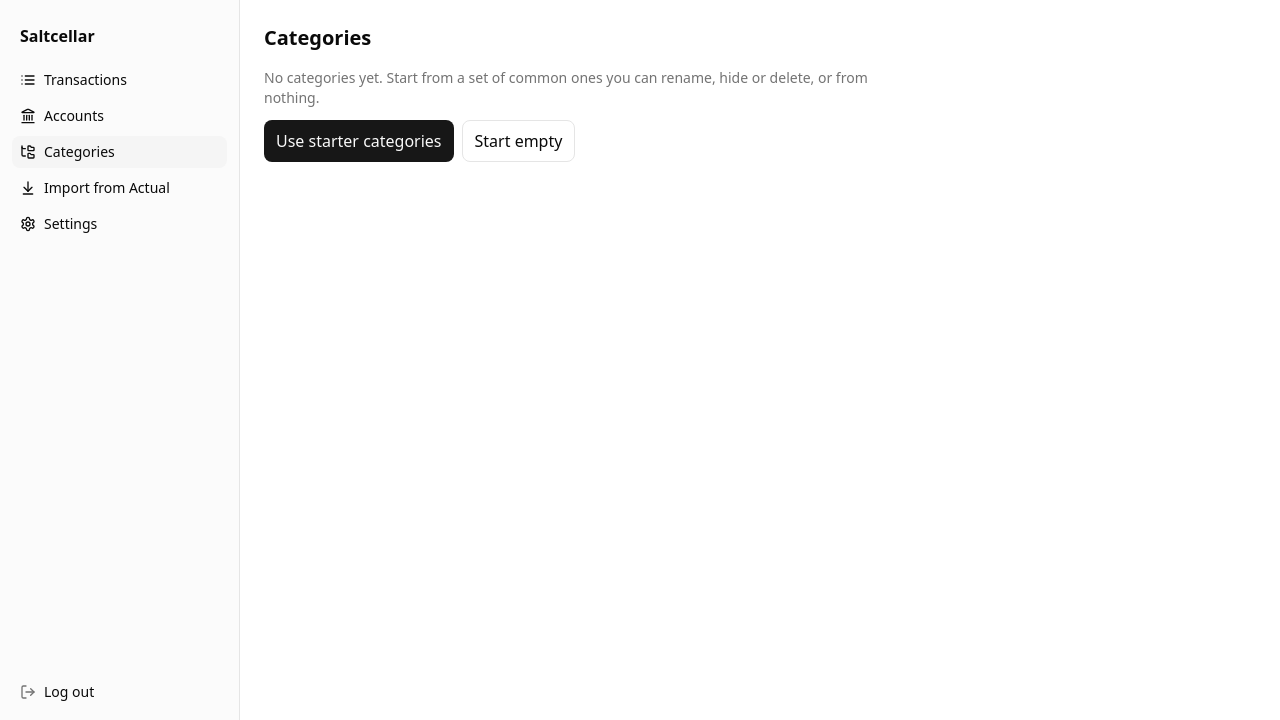
Test: Settings › Categories › offers the starter set or an empty start while there are none, and writes the starters
The image size is (1280, 720).
Step 1. Click the button "Use starter categories" → click(359, 141), box [264, 120, 454, 162]
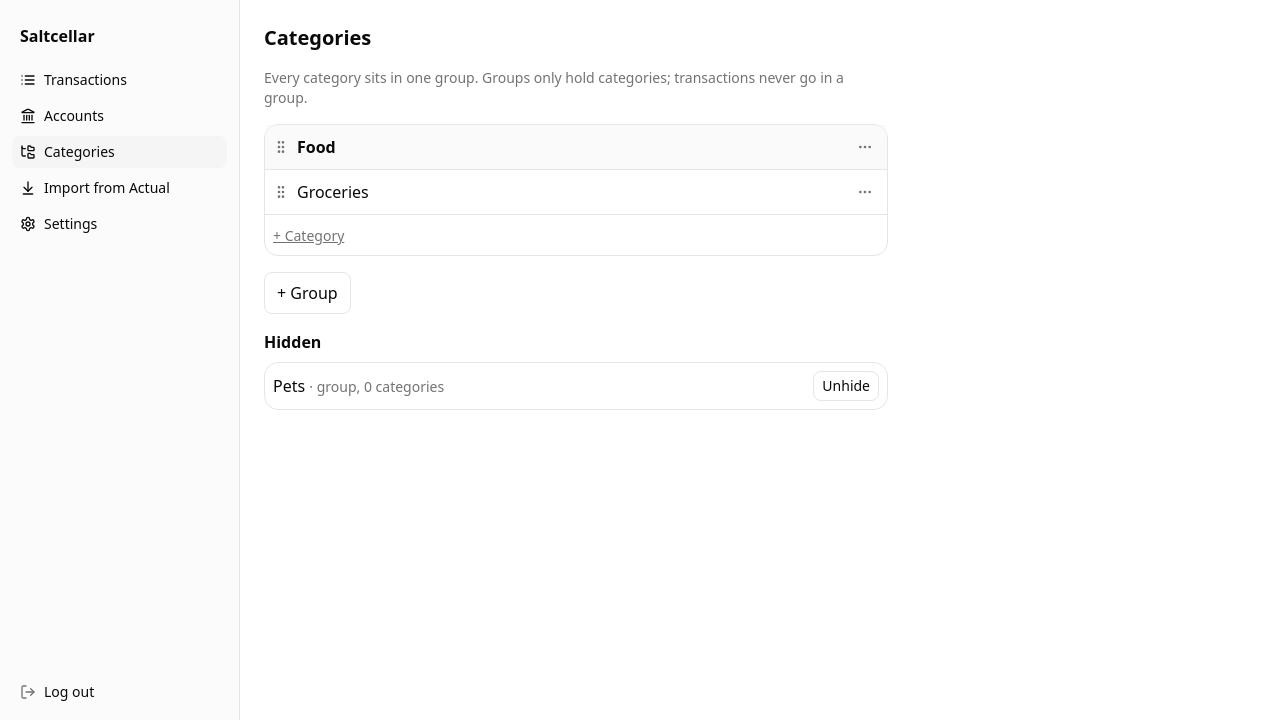
Check: the text "Groceries" is shown, box [297, 181, 369, 203]
